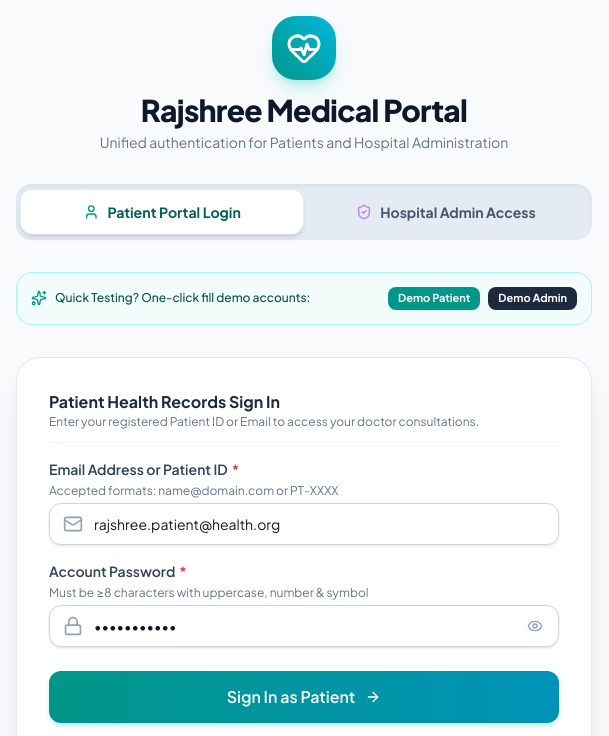
Test case: PWA Features, Accessibility, and Secure Input Handling › renders password input with secure masking and toggle visibility action
// Click toggle to reveal password
What coordinates should you click on to do the following:
click the button named "show password"
I would click on:
 (535, 626)
Its box is [523, 614, 547, 638].
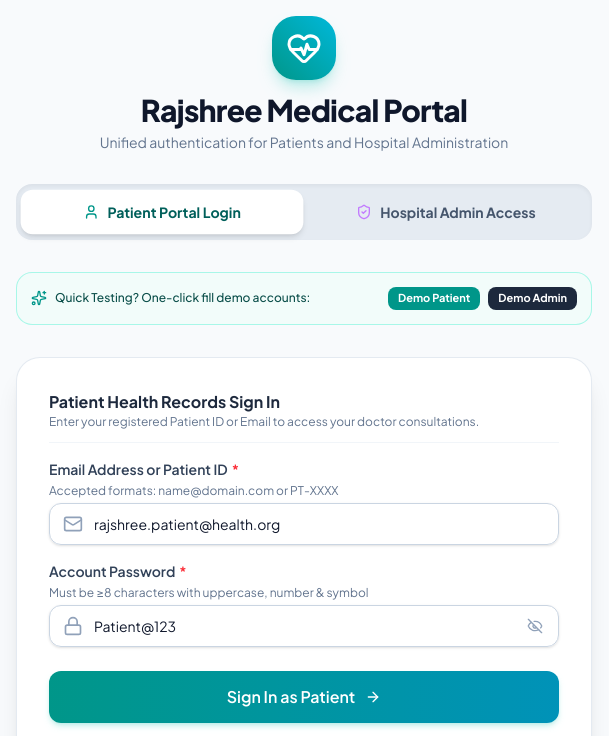
Expected: the field labelled "Account Password*" shows its text, [49, 605, 559, 647]
// Click again to mask password
What coordinates should you click on to do the following:
click the button named "hide password"
I would click on:
 (535, 626)
Its box is [523, 614, 547, 638].
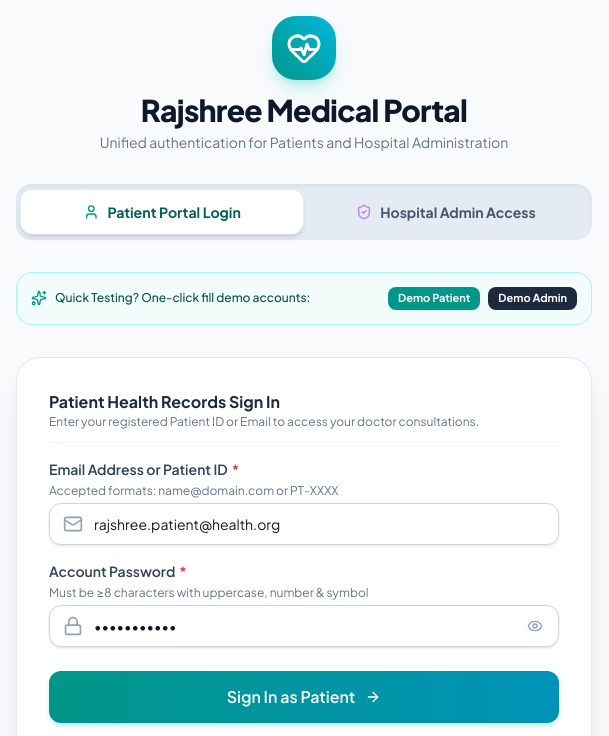
Expected: the password field labelled "Account Password*" hides its text, [49, 605, 559, 647]
